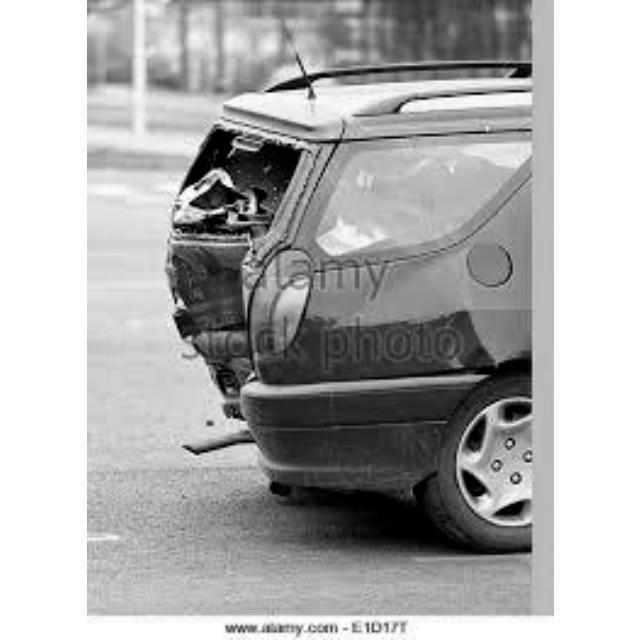Rear-windscreen-Damage: (169, 115, 305, 234)
